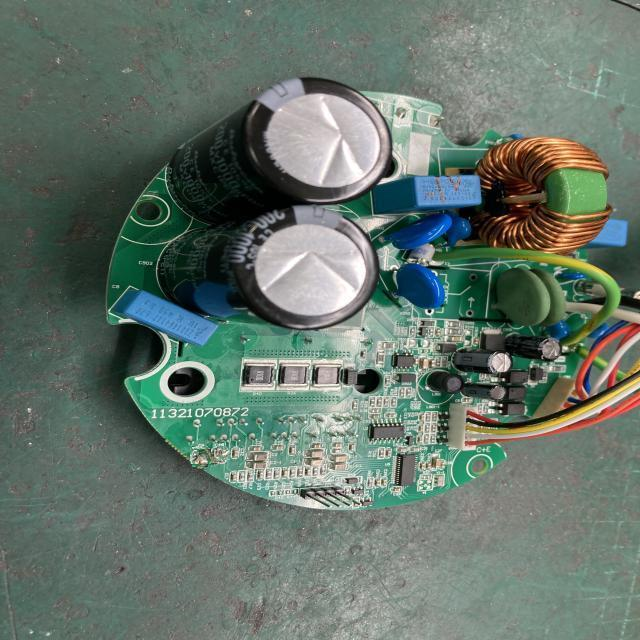damged: (191, 447, 210, 466), (216, 448, 230, 462)
